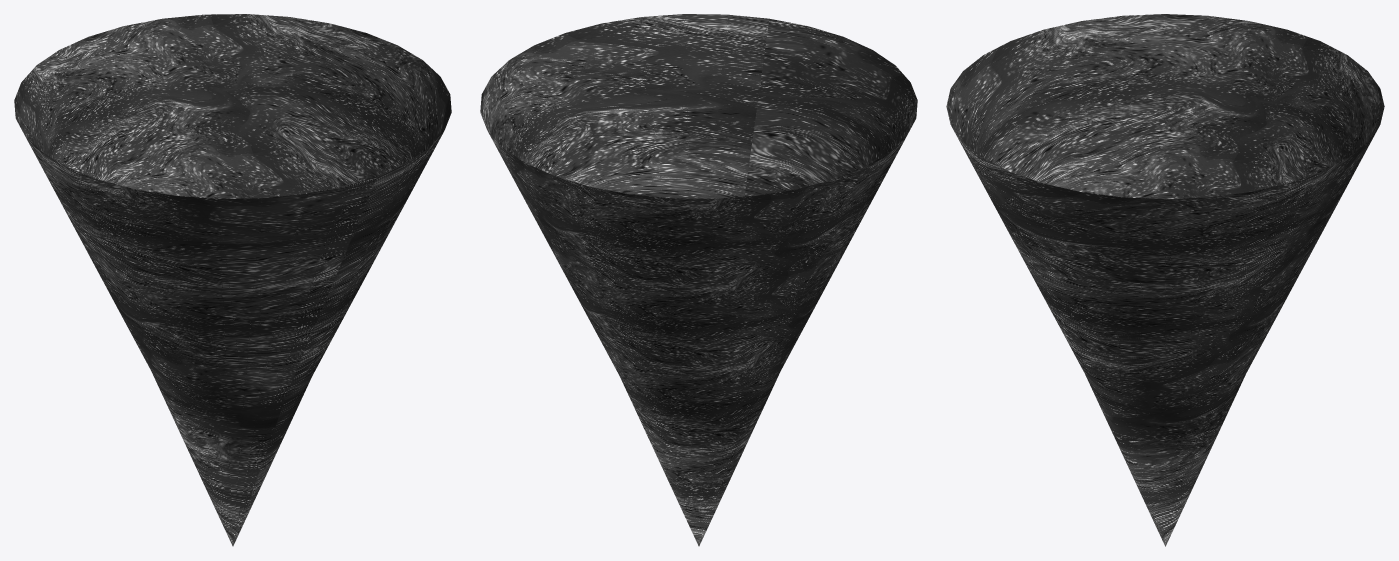
The model's file is backgroundSky.fbx.
3 views of the same model, side by side, from view 1: azimuth 30°, elevation 25°; view 2: azimuth 150°, elevation 25°; view 3: azimuth 270°, elevation 25° (orthographic).
Visible parts, largest first — view 1: SpaceBox; view 2: SpaceBox; view 3: SpaceBox.
Boxes of the visible parts, <box> form: SpaceBox: <box>14,14,451,546</box>; SpaceBox: <box>480,14,917,546</box>; SpaceBox: <box>946,14,1384,546</box>.
Size of the model in its own units: 10018 by 11108 by 10018.
